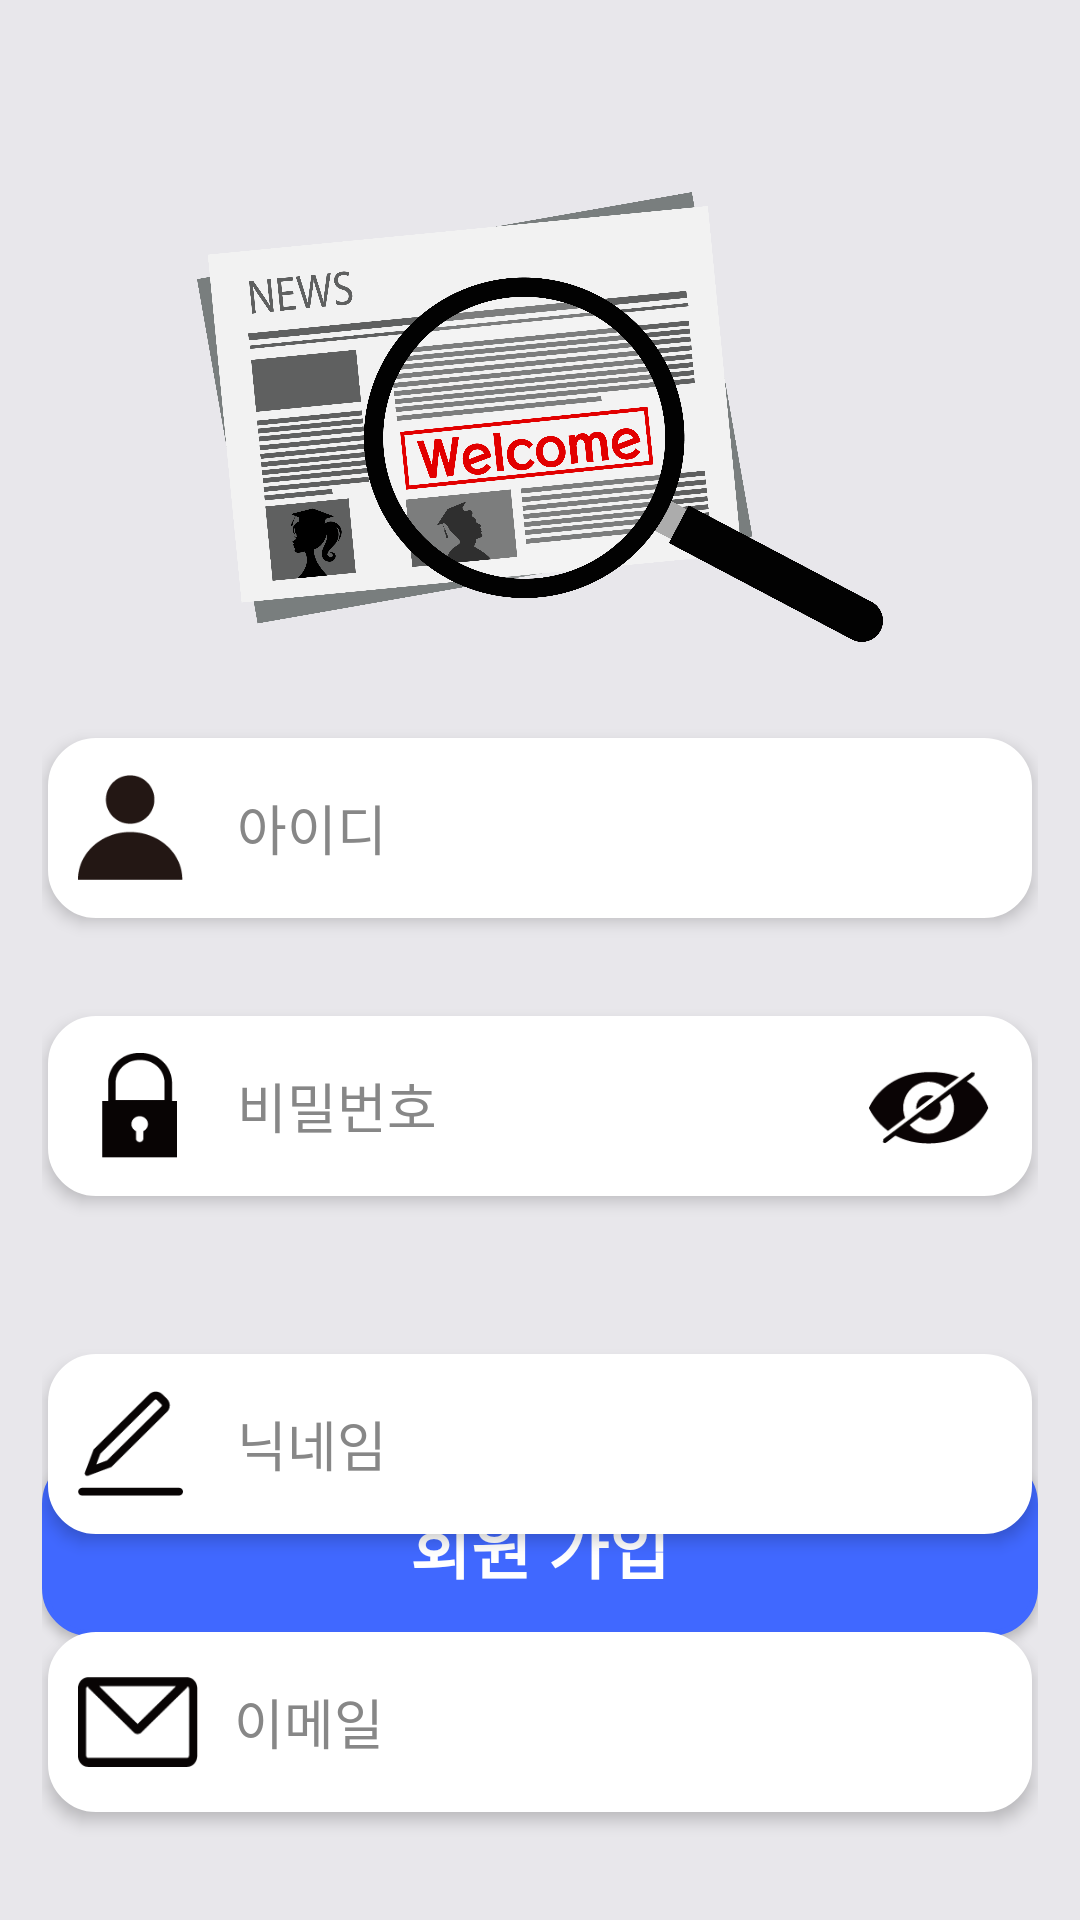

Named icons in this screenshot (1080 × 1920) and their centers, (x=x, y=y):
icm secret resize: (x=928, y=1108)
